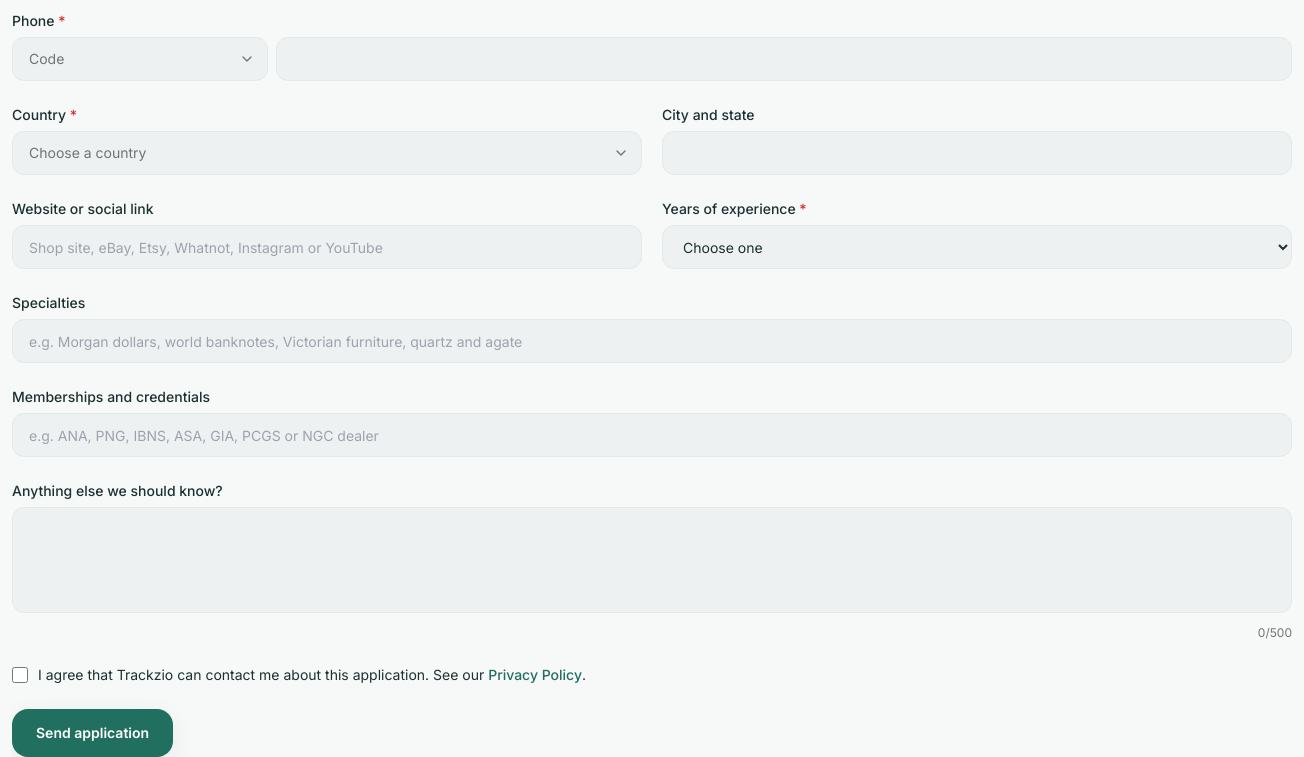
Test: partner form scenarios › shows every required error on an empty form and does not send it
This screenshot has width=1304, height=757.
(page scrolled)
What coordinates should you click on to do the following:
click the button "Send application"
I would click on:
 (93, 733)
Its box is 12,709 -> 173,756.
(page scrolled)
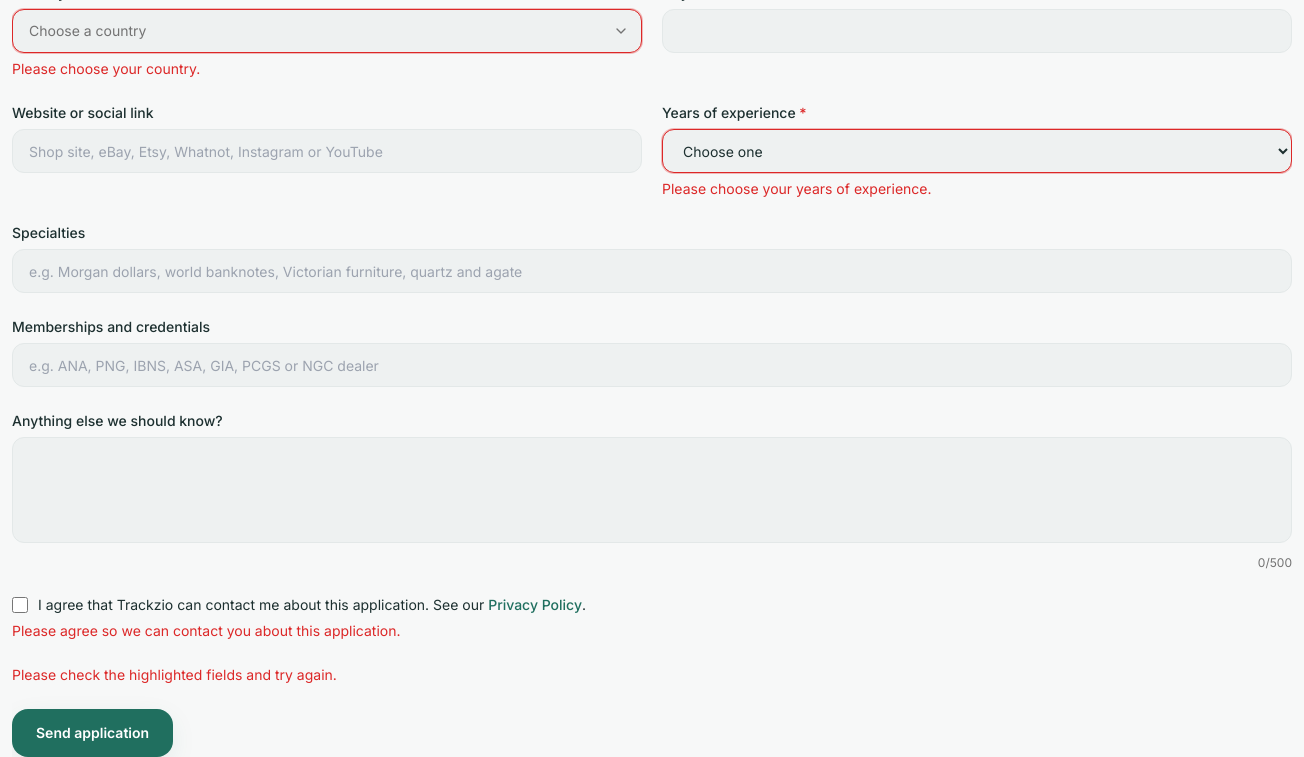
Check: the text "Please choose your country." is shown, box 12,60 -> 200,77
Check: the text "Please choose your years of experience." is shown, box 662,180 -> 932,197
Check: the text "Please agree so we can contact you about this application." is shown, box 12,622 -> 400,639
